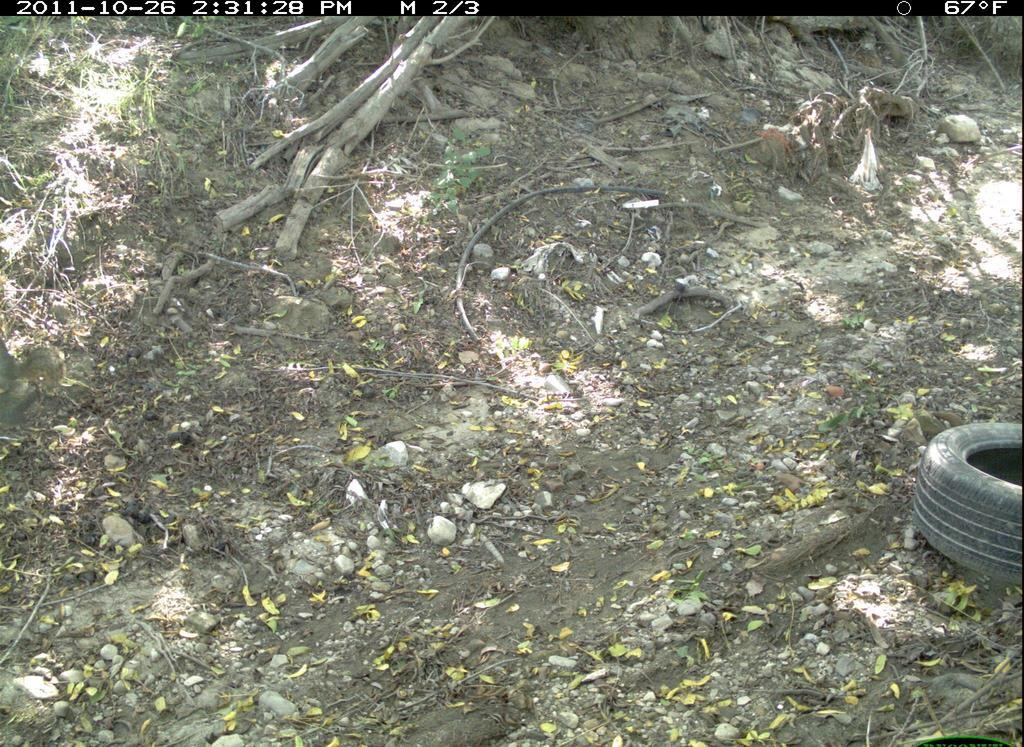squirrel: (4, 338, 84, 419)
